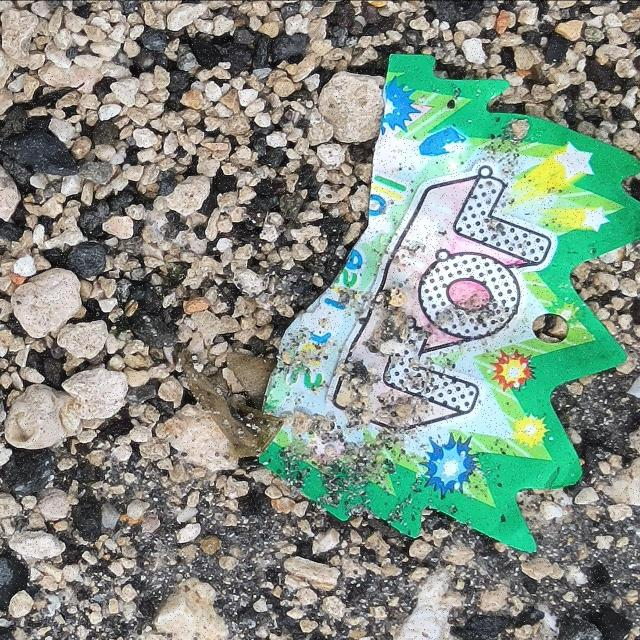plastic_waste: (256, 53, 640, 554)
